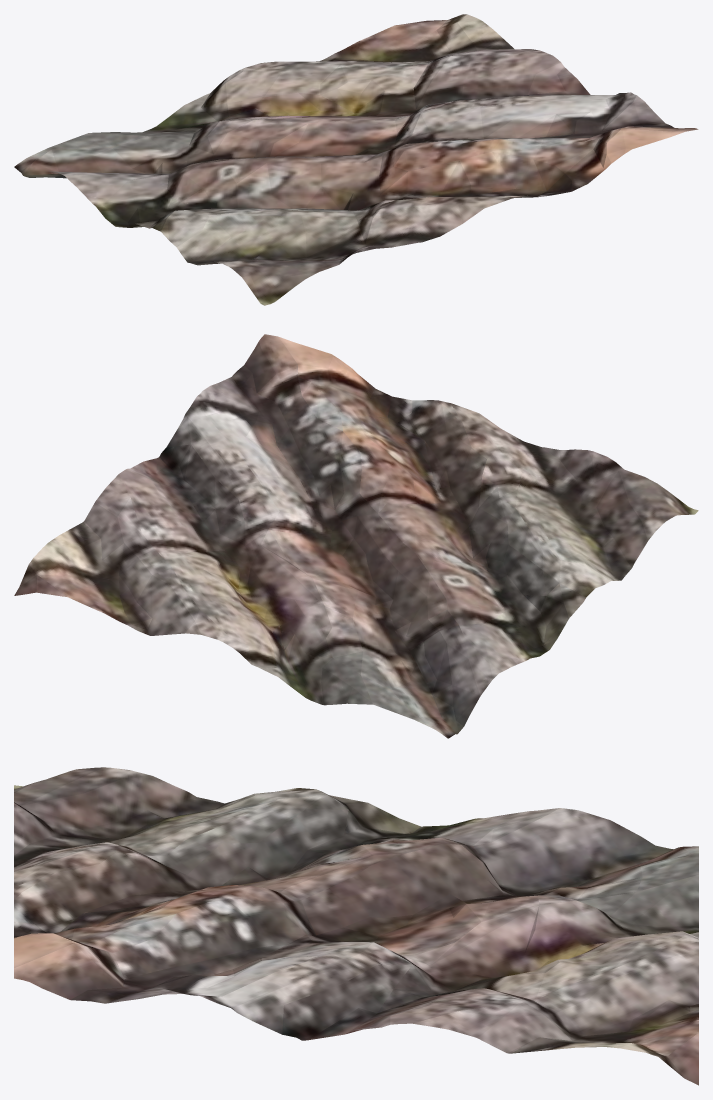
The picture shows the model from 3 angles, top to bottom: view 1: azimuth 30°, elevation 25°; view 2: azimuth 150°, elevation 25°; view 3: azimuth 270°, elevation 25°; orthographic projection. The views are drawn at different scales.
Size of the model in its own units: 0.8373 by 0.2178 by 0.8374.
3 materials, 3 textured.
